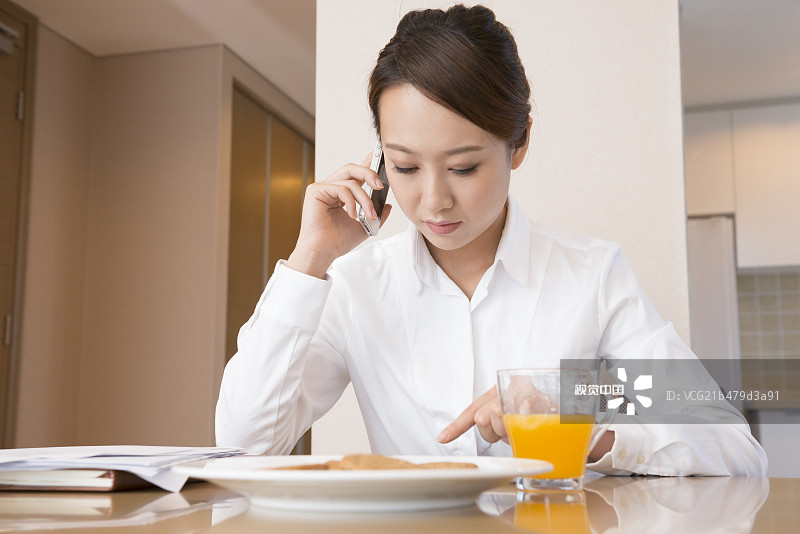calling: (274, 136, 416, 275)
